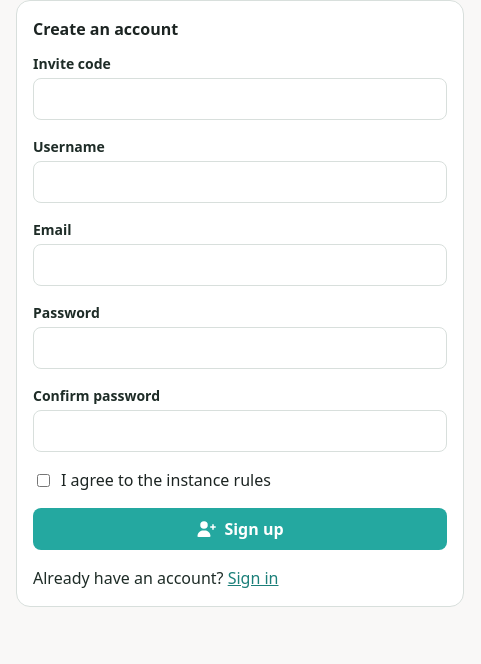
Test: RegisterPage › surfaces API errors (e.g. username taken)
The width and height of the screenshot is (481, 664).
Type "alice" into the field labelled "Username".
click(240, 182); type("alice")  # box [33,161,447,203]
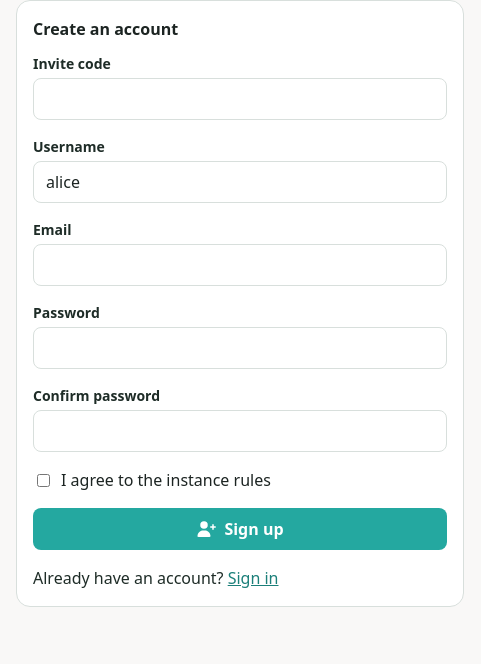
Type "alice@example.com" into the field labelled "Email".
click(240, 265); type("alice@example.com")  # box [33,244,447,286]
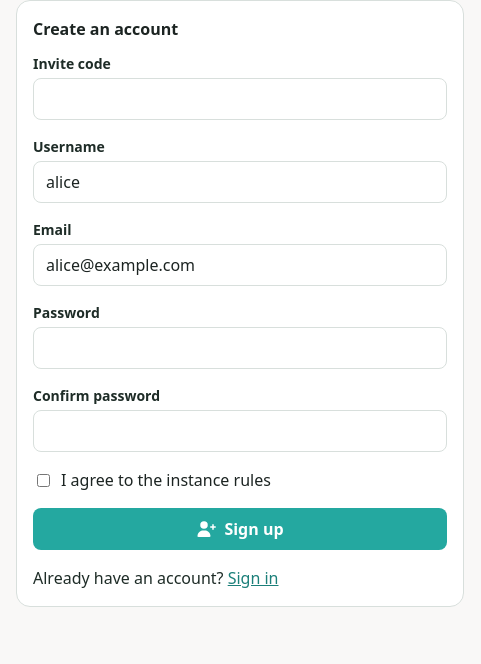
Type "secretpw1" into the password field labelled "Password".
click(240, 348); type("secretpw1")  # box [33,327,447,369]
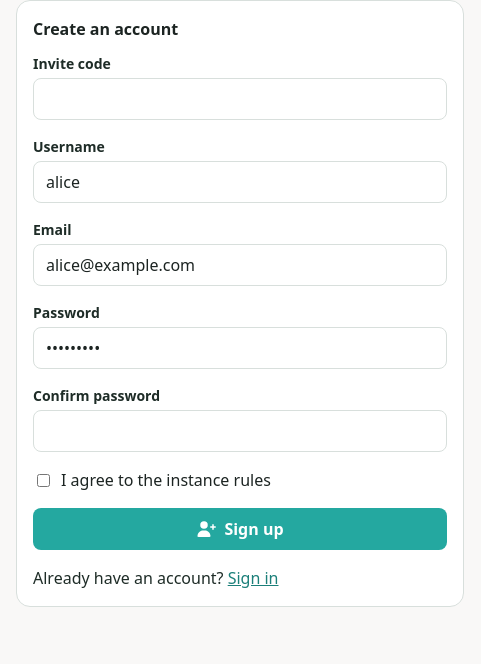
Type "secretpw1" into the password field labelled "Confirm password".
click(240, 431); type("secretpw1")  # box [33,410,447,452]
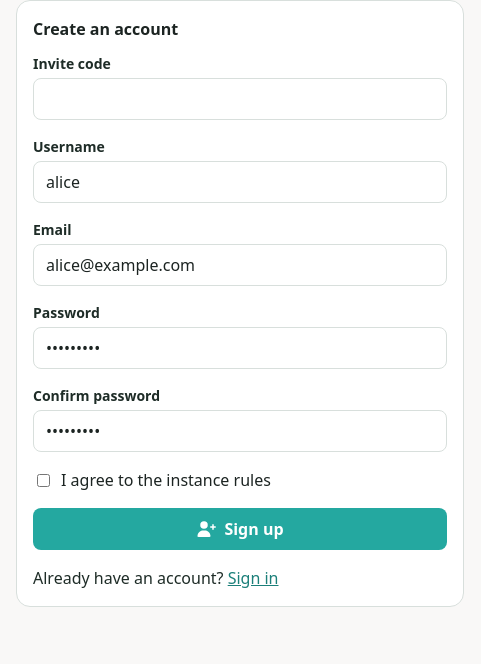
Click the checkbox labelled "I agree to the instance rules".
click(44, 480)  # box [37,474,50,486]
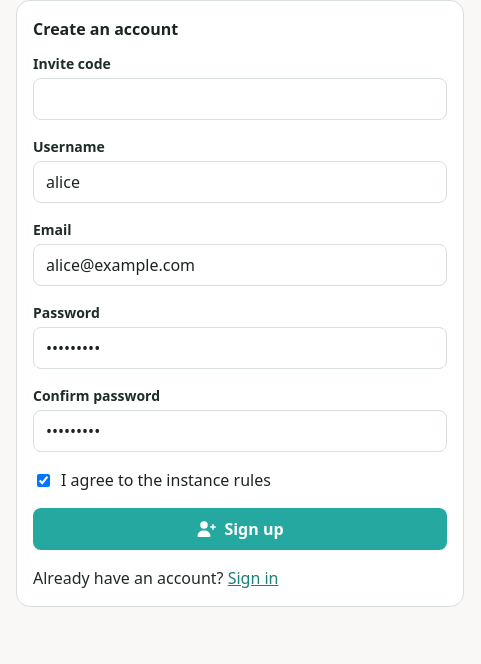
Submit the form with class "register__form"
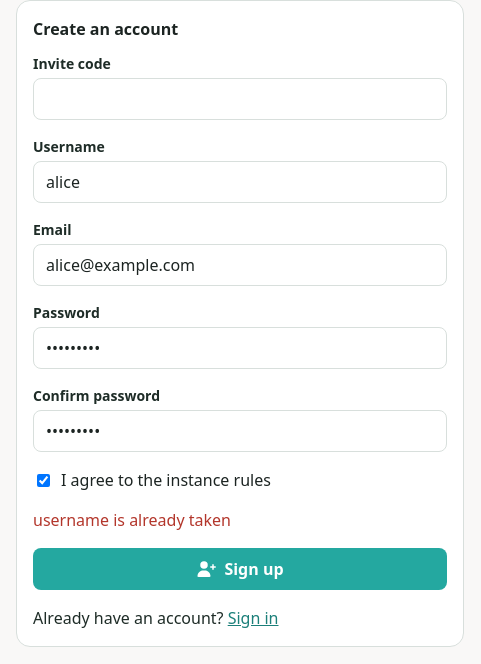
Now the text "username is already taken" is shown, box [33,509,231,531]
